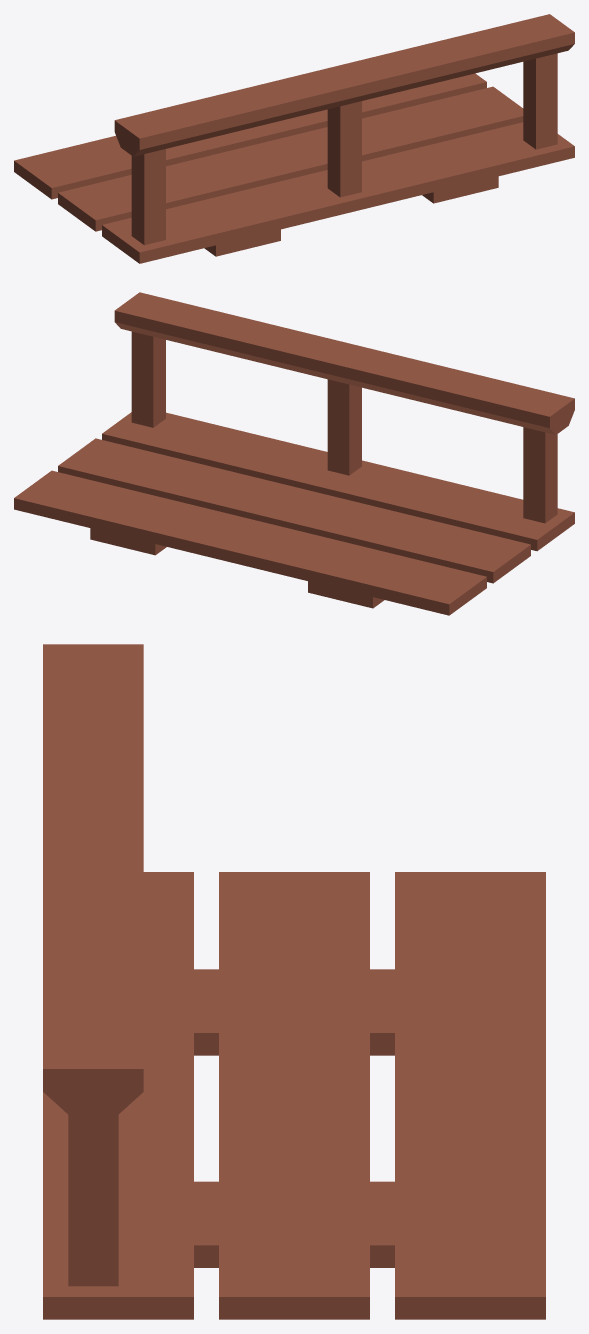
The model's file is scaffold_small_low_railing_long 1.fbx.
The picture shows the model from 3 angles, top to bottom: view 1: azimuth 30°, elevation 25°; view 2: azimuth 150°, elevation 25°; view 3: azimuth 270°, elevation 25°; orthographic projection. The views are drawn at different scales.
Visible parts, largest first — view 1: scaffold_small_low_railing_long; view 2: scaffold_small_low_railing_long; view 3: scaffold_small_low_railing_long.
Boxes of the visible parts, <box> form: scaffold_small_low_railing_long: <box>14,14,574,263</box>; scaffold_small_low_railing_long: <box>14,292,574,615</box>; scaffold_small_low_railing_long: <box>43,644,545,1319</box>.
Bounding box in the file's own units: 400 × 120 × 200.
